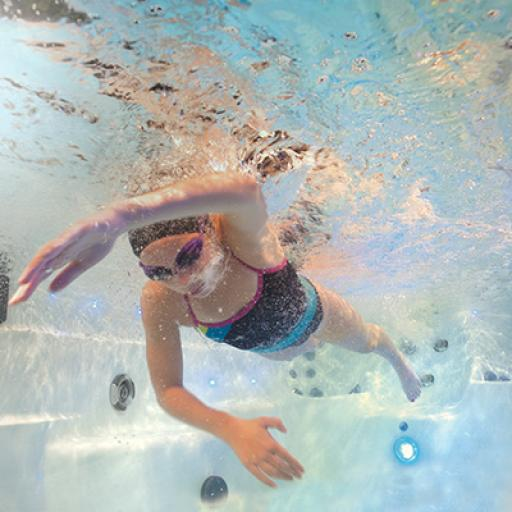swimming: (38, 94, 440, 495)
